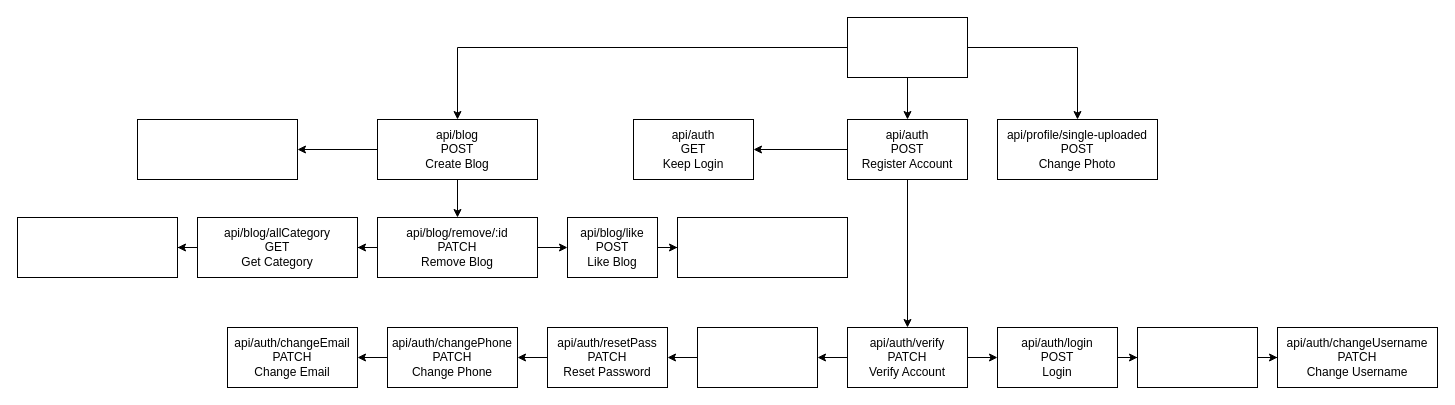
Some shapes in this 1455 by 405 pixel diagram are drawn without their labels. The shapes that lost their labels are listed below. From the top down, each one's centre as x and y in pixels, then its label:
[907,47]: /api sebagai index
[217,149]: api/blog GET Get Blog
[97,247]: api/blog/pagFav GET Get Most Fav Blog
[762,247]: api/blog/pagLike GET Get Like Blog w/ Token
[757,357]: api/auth/forgotPass PUT Forgot Password
[1197,357]: api/auth/changePass PATCH Change Password
